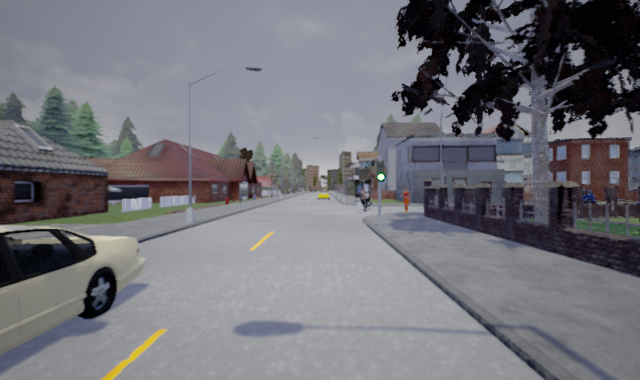bike: (354, 187, 380, 213)
pedestrian: (399, 184, 411, 213)
vehicle: (1, 225, 143, 362)
